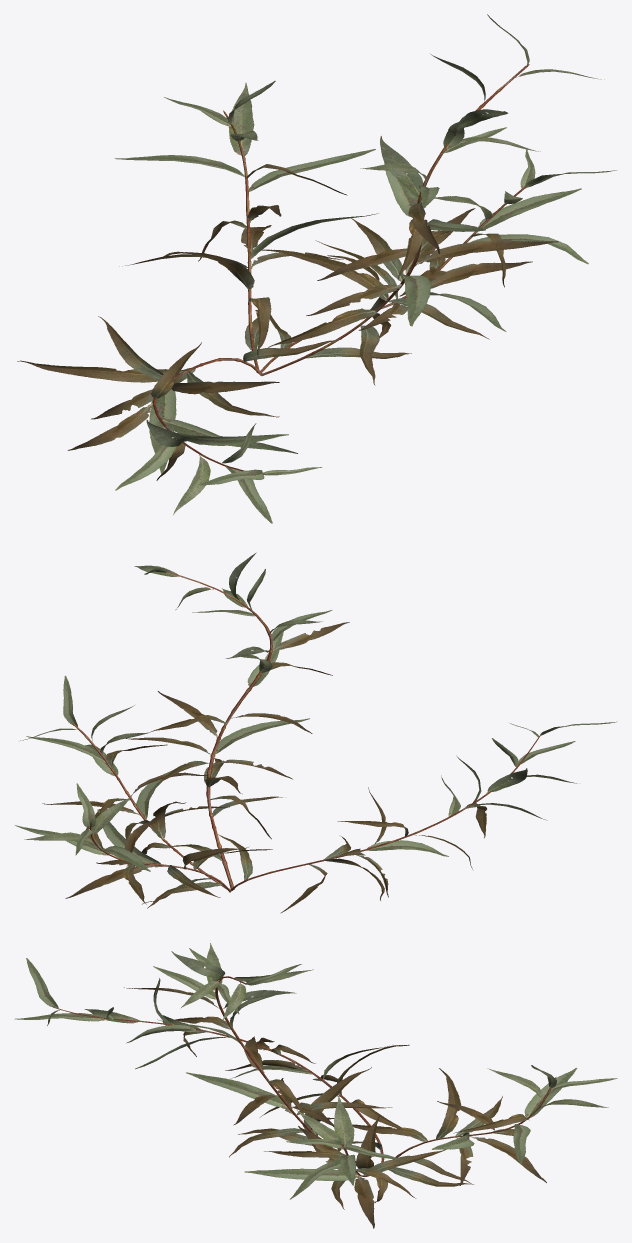
Rendered from Leafy_Clump_B.fbx.
3 renders of one model, top to bottom at view 1: azimuth 30°, elevation 25°; view 2: azimuth 150°, elevation 25°; view 3: azimuth 270°, elevation 25°, orthographic. The views are drawn at different scales.
Parts seen in each view (by area): view 1: Leafy_Clump_B; view 2: Leafy_Clump_B; view 3: Leafy_Clump_B.
Part boxes in pixels (x1,y1,x2,y2): Leafy_Clump_B: [17, 14, 616, 523]; Leafy_Clump_B: [15, 552, 617, 913]; Leafy_Clump_B: [14, 943, 617, 1228].
Size of the model in its own units: 0.5638 by 0.32 by 0.65.
1 material, 1 textured.
